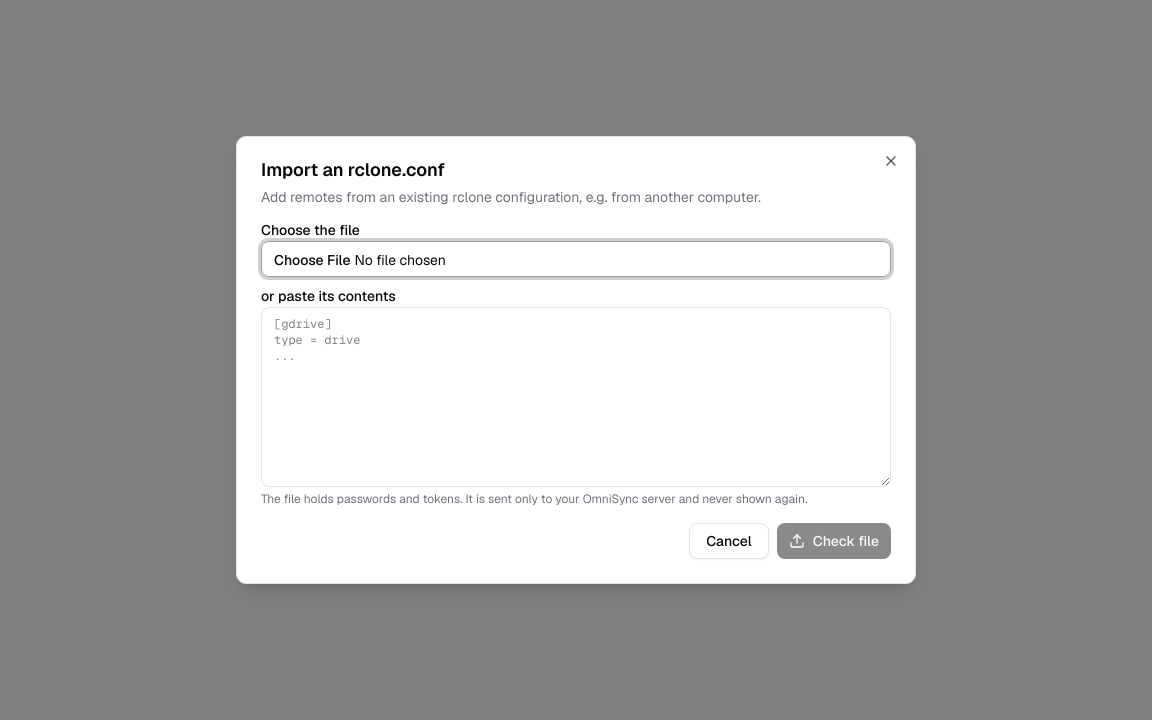
Test: RemoteImportDialog preview and import › finds a free name past earlier imports, and refuses two remotes with one name
In the text box labelled "or paste its contents": (576,397) [261, 307, 891, 487], type "conf"
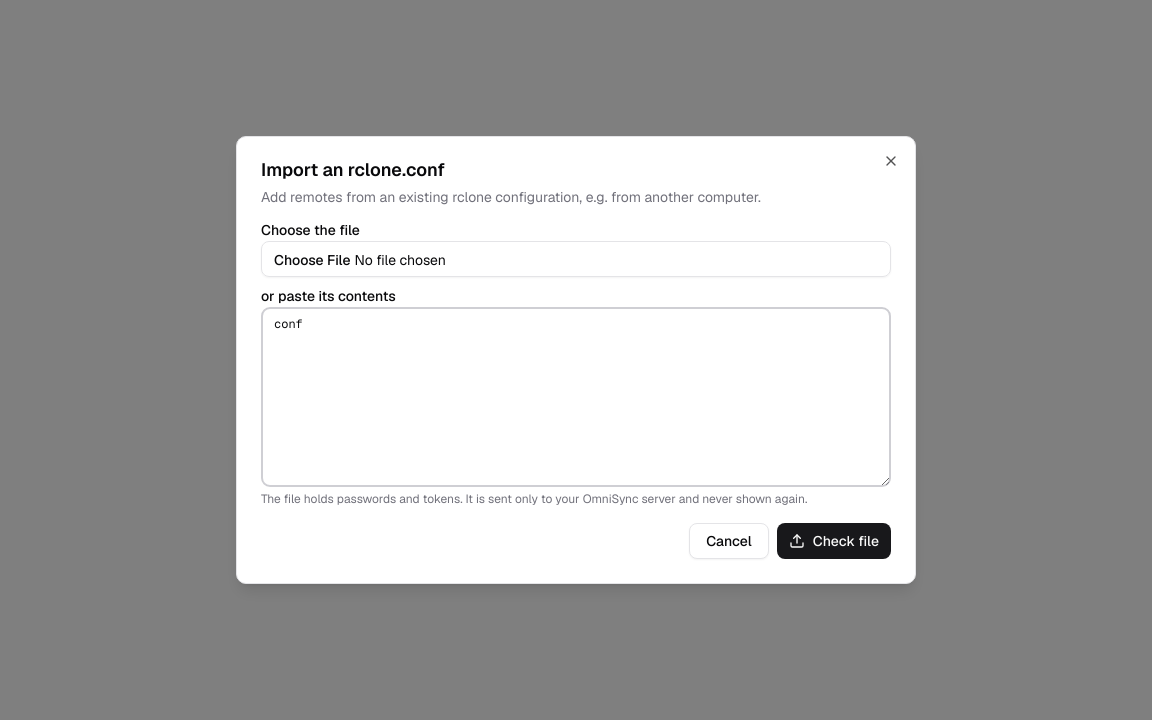
Click the button "Check file": (834,541) [777, 523, 891, 559]
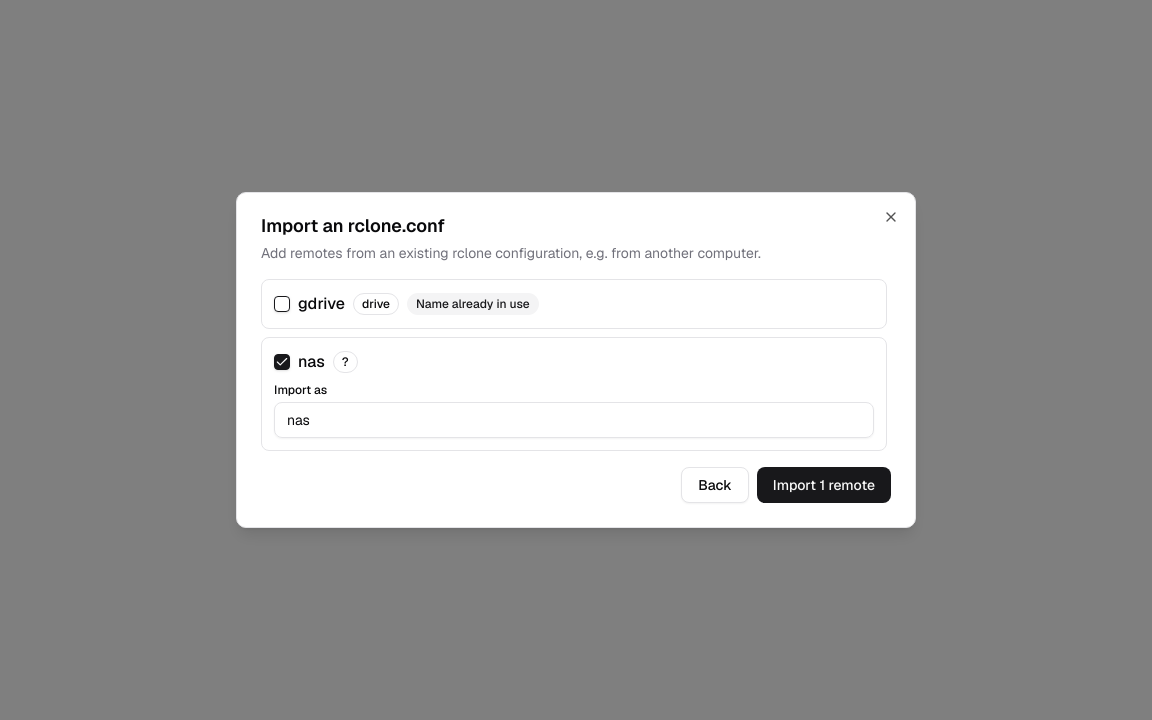
Expected: the field labelled "Import as" holds "nas", [274, 402, 874, 438]
Expected: the text "?" is shown, [333, 351, 358, 373]
Click the checkbox named "Import gdrive": (282,304) [274, 296, 290, 312]
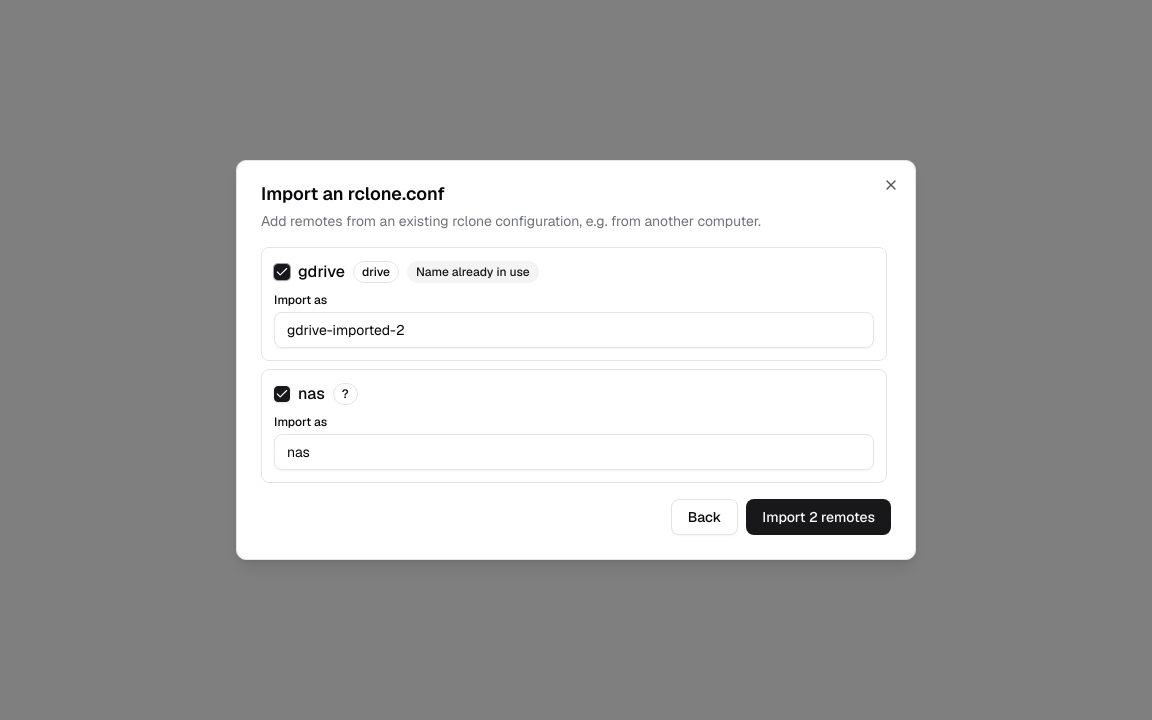
Expected: the field labelled "Import as" below "gdrive" holds "gdrive-imported-2", [274, 312, 874, 348]
Clear the field labelled "Import as" below "nas": (574,452) [274, 434, 874, 470]
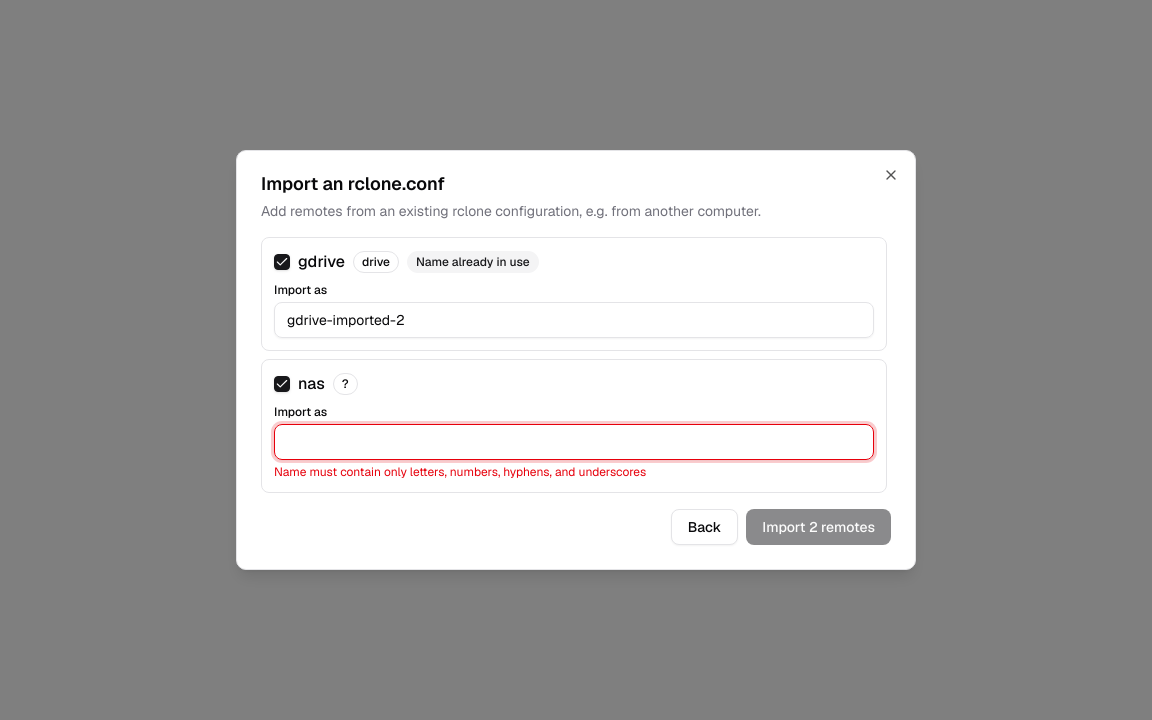
In the field labelled "Import as" below "nas": (574,442) [274, 424, 874, 460], type "gdrive-imported-2"
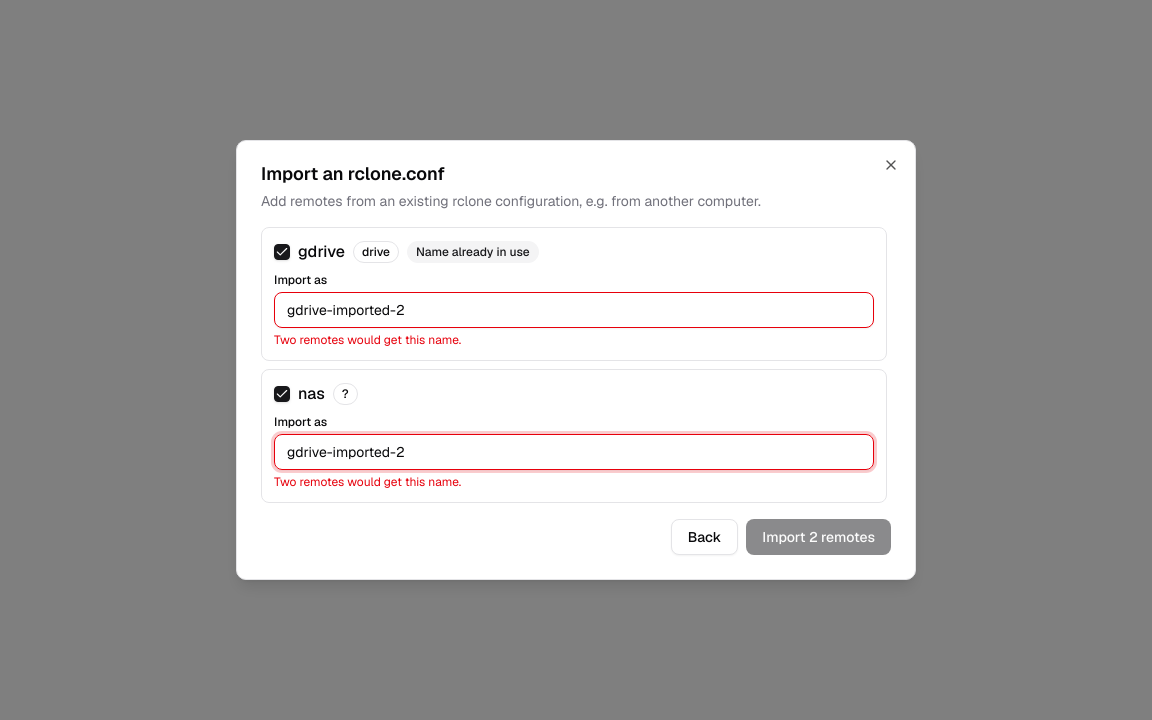
Expected: the button "Import 2 remotes" is disabled, [746, 519, 891, 555]
Expected: the text "Two remotes would get this name." is shown 2 times, [274, 332, 461, 348]; [274, 474, 461, 490]
